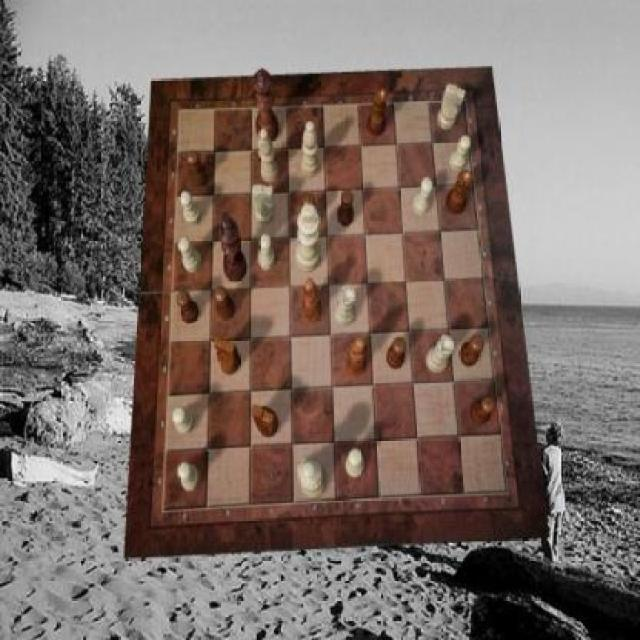bishop: (346, 337, 369, 377), (303, 278, 323, 324)
black-bishop: (218, 210, 248, 282)
black-king: (214, 337, 241, 377), (252, 404, 280, 438)
black-knight: (460, 335, 485, 368), (177, 290, 200, 324), (471, 396, 497, 426), (214, 286, 236, 321), (188, 149, 208, 187), (386, 338, 406, 371), (302, 192, 319, 230), (337, 189, 354, 227)
black-pawn: (254, 68, 280, 142)
black-queen: (446, 169, 474, 215), (368, 89, 388, 137)
black-rook: (258, 128, 280, 182), (300, 121, 319, 178)
white-bishop: (297, 203, 321, 272)
white-king: (439, 85, 466, 130), (252, 185, 276, 226)
white-knight: (178, 237, 202, 273), (449, 136, 472, 172), (412, 177, 433, 215), (180, 191, 202, 225), (258, 232, 276, 270), (178, 463, 201, 492), (172, 408, 195, 435), (346, 449, 366, 478)
white-pawn: (298, 455, 328, 498)
white-queen: (426, 335, 454, 374), (336, 286, 356, 326)
